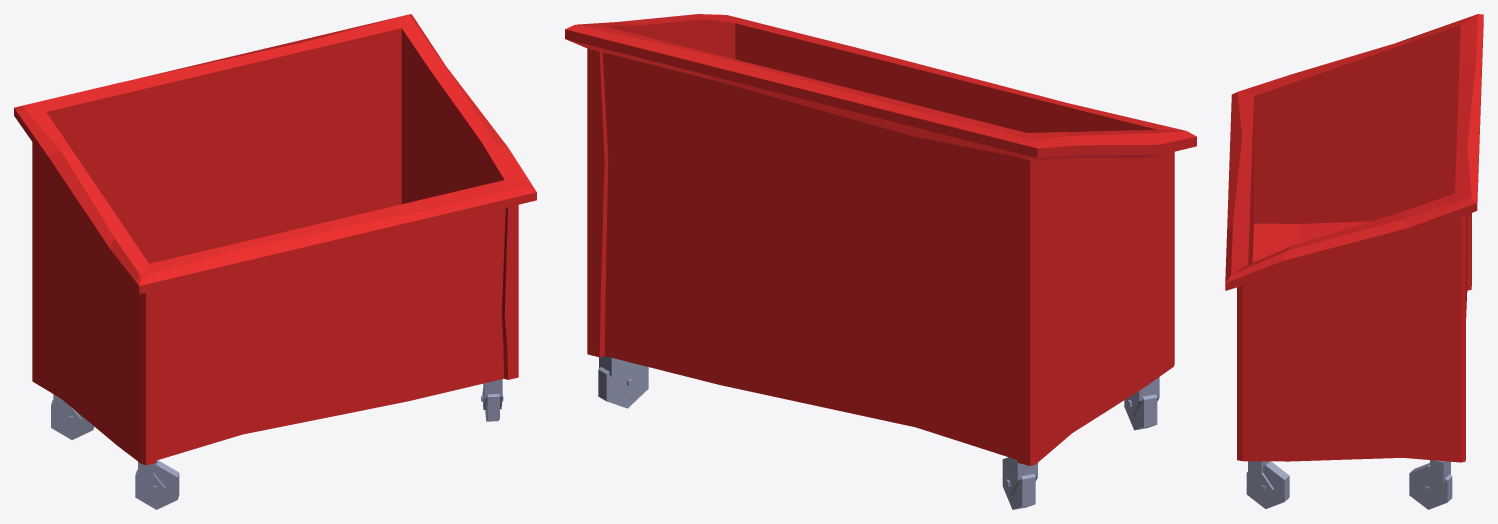
Rendered from TrashPart2.fbx.
The picture shows the model from 3 angles, left to right: view 1: azimuth 30°, elevation 25°; view 2: azimuth 150°, elevation 25°; view 3: azimuth 270°, elevation 25°; orthographic projection. The views are drawn at different scales.
Visible parts, largest first — view 1: SM_Prop_Skip_02.002; view 2: SM_Prop_Skip_02.002; view 3: SM_Prop_Skip_02.002.
Part boxes in pixels (x1=…): SM_Prop_Skip_02.002: x1=14, y1=14, x2=536, y2=509; SM_Prop_Skip_02.002: x1=565, y1=14, x2=1196, y2=509; SM_Prop_Skip_02.002: x1=1225, y1=14, x2=1483, y2=509.
Bounding box in the file's own units: 334 × 262 × 192.
